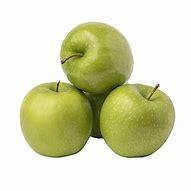apple: (13, 80, 95, 166), (102, 80, 176, 160), (60, 27, 136, 90)
